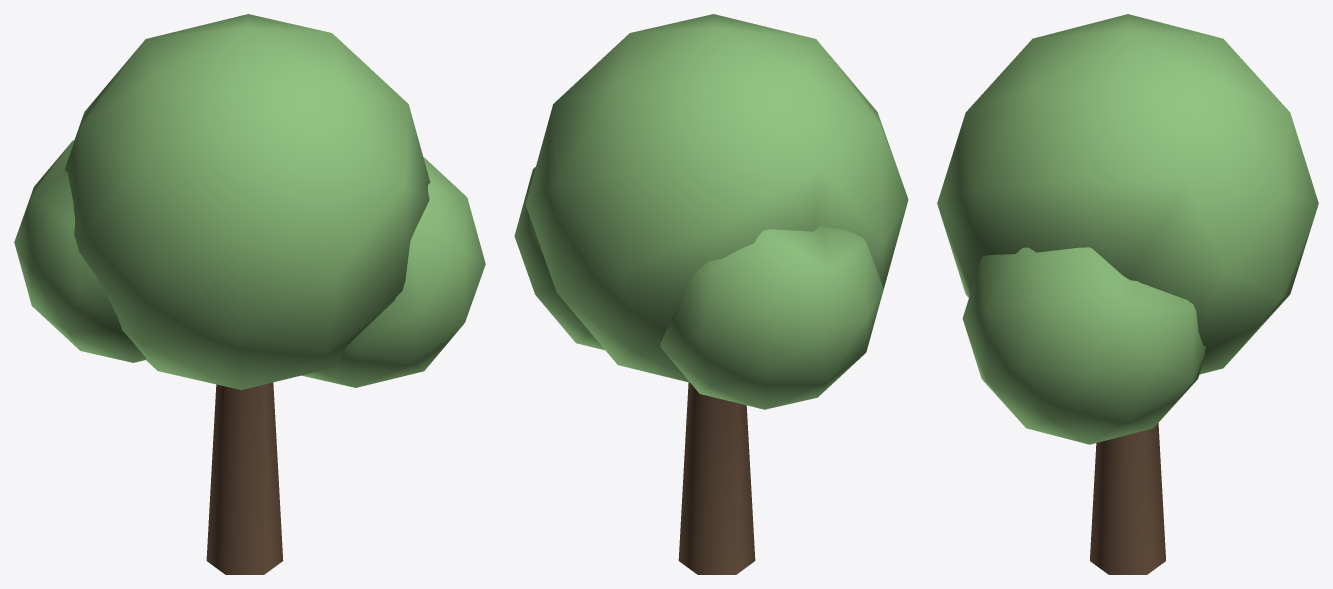
File: round.glb
The picture shows the model from 3 angles, left to right: view 1: azimuth 30°, elevation 25°; view 2: azimuth 150°, elevation 25°; view 3: azimuth 270°, elevation 25°; orthographic projection.
Parts seen in each view (by area): view 1: round_leafRound, round_trunk; view 2: round_leafRound, round_trunk; view 3: round_leafRound, round_trunk.
Part boxes in pixels (box(x1,y1,x2,y2)): round_leafRound: box(14, 14, 485, 389); round_trunk: box(206, 382, 283, 574); round_leafRound: box(514, 14, 908, 409); round_trunk: box(678, 382, 755, 574); round_leafRound: box(937, 14, 1318, 444); round_trunk: box(1090, 423, 1165, 574).
Bounding box in the file's own units: 0.7 × 0.92 × 0.6.
